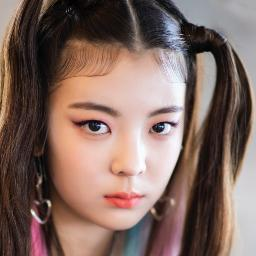face: (64, 60, 182, 222)
